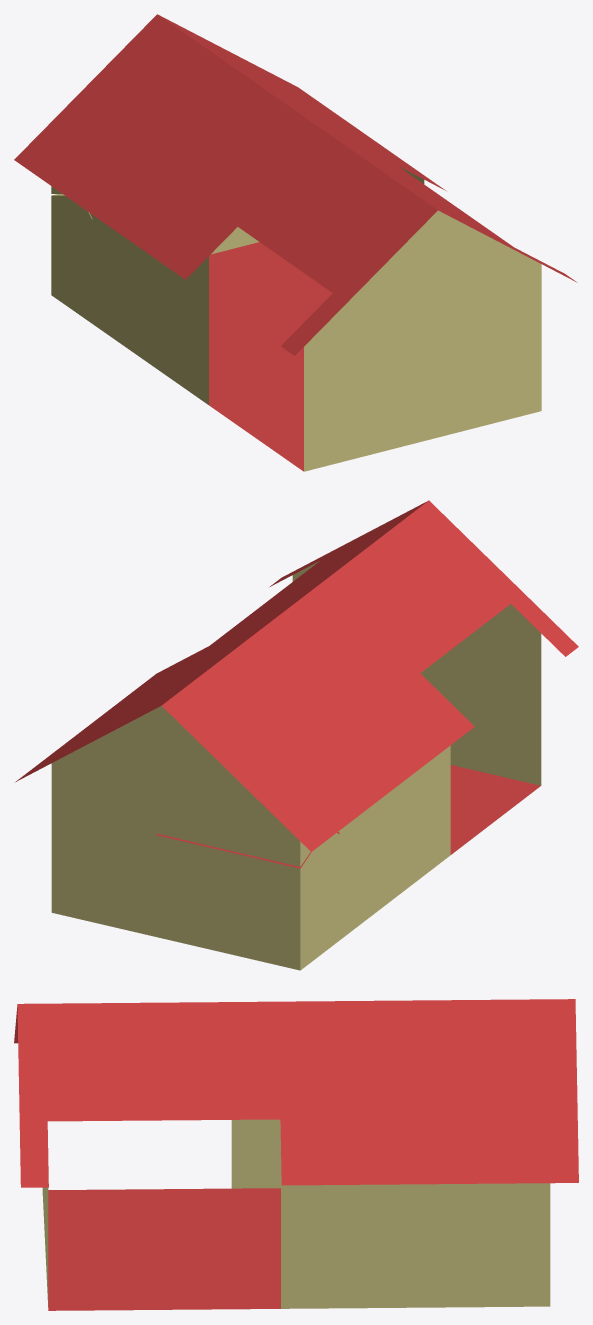
3 views of the same model, one above another, from view 1: azimuth 30°, elevation 25°; view 2: azimuth 150°, elevation 25°; view 3: azimuth 270°, elevation 25° (orthographic). The views are drawn at different scales.
Size of the model in its own units: 18.9 by 30.27 by 14.63.
